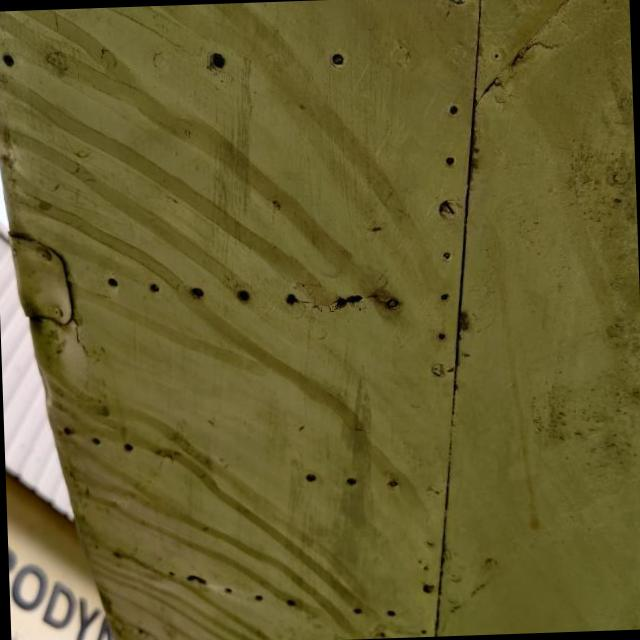Crack: (335, 296, 362, 309), (186, 577, 206, 585)
